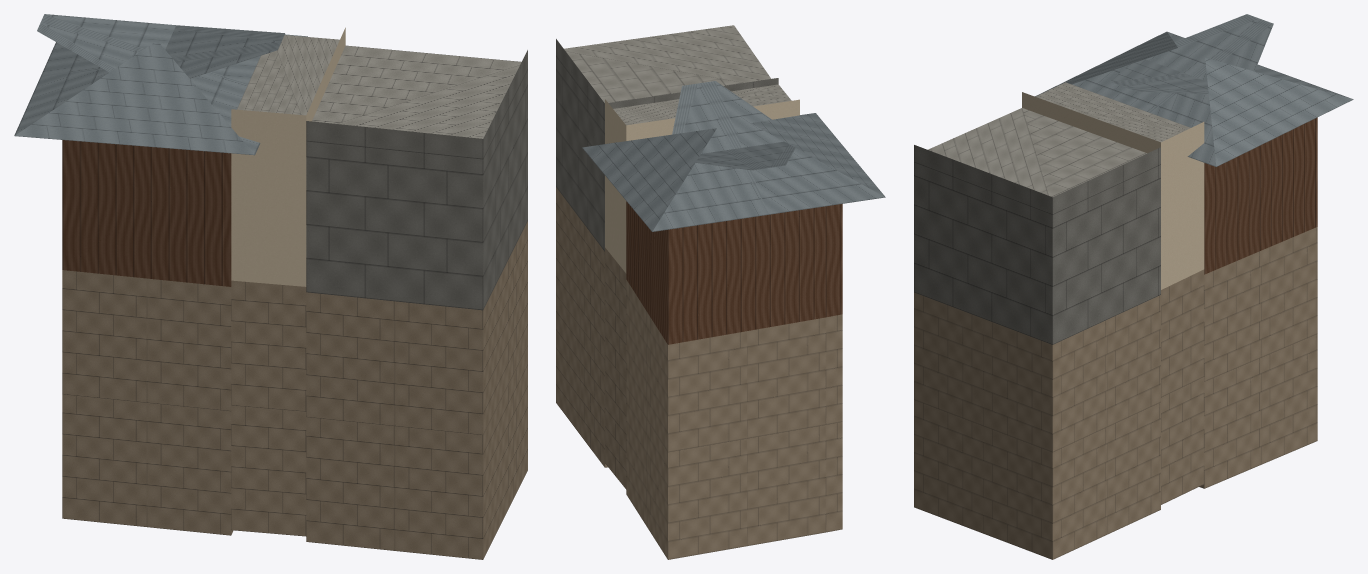
The model's file is bld_c44_33_251.gltf.
3 views of the same model, side by side, from view 1: azimuth 30°, elevation 25°; view 2: azimuth 150°, elevation 25°; view 3: azimuth 270°, elevation 25° (orthographic). The views are drawn at different scales.
Visible parts, largest first — view 1: bld_c44_33_251; view 2: bld_c44_33_251; view 3: bld_c44_33_251.
Boxes of the visible parts, x1=… form: bld_c44_33_251: x1=14, y1=14, x2=527, y2=559; bld_c44_33_251: x1=556, y1=25, x2=885, y2=559; bld_c44_33_251: x1=914, y1=14, x2=1353, y2=559.
Size of the model in its own units: 8.65 by 8.3 by 8.55.
Materials: 8 (8 with a texture image).
